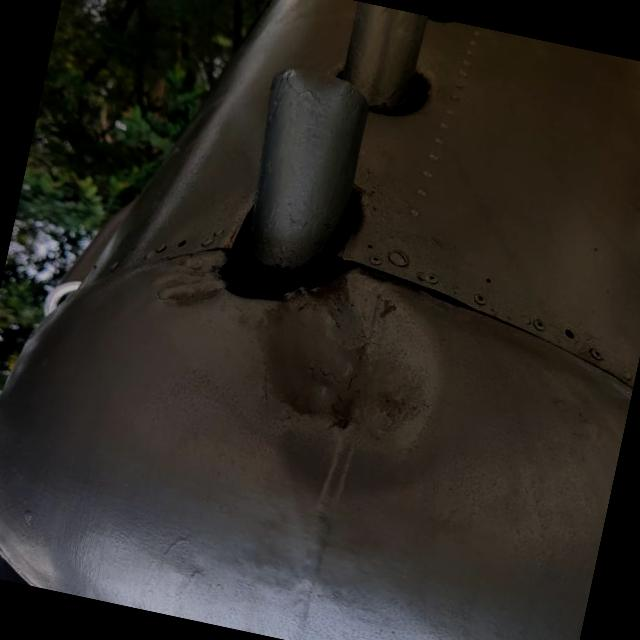dent: (208, 232, 490, 500), (137, 249, 240, 337)
